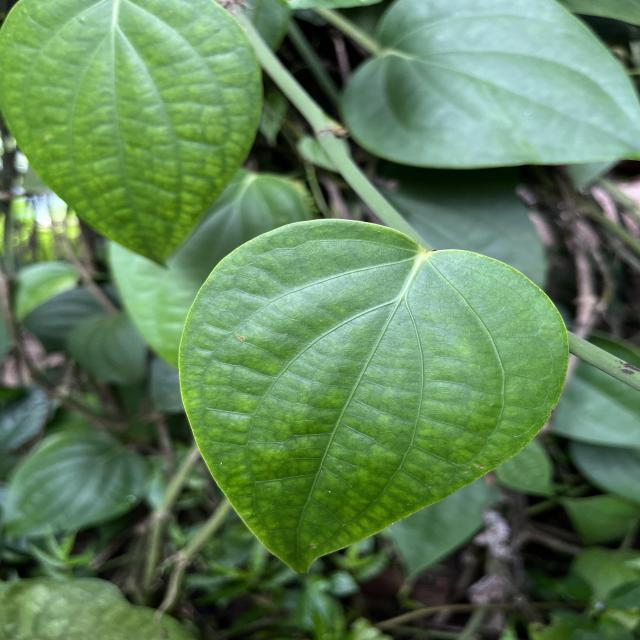Piper nigrum: (175, 217, 572, 577)
